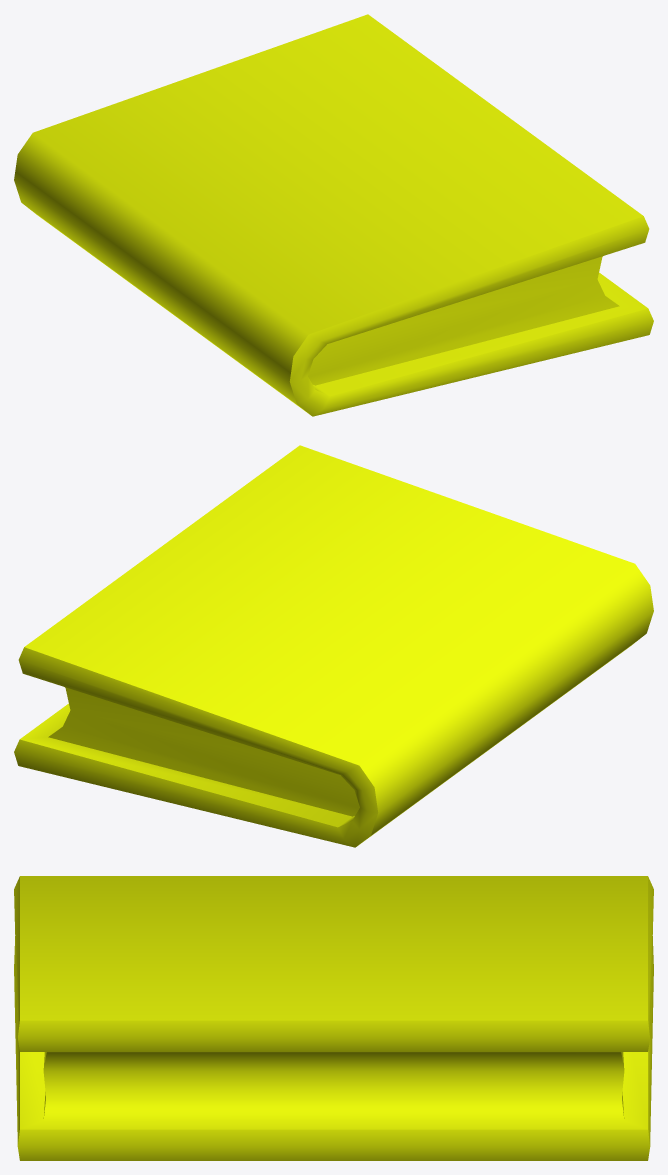
The model's file is Book1.FBX.
3 renders of one model, top to bottom at view 1: azimuth 30°, elevation 25°; view 2: azimuth 150°, elevation 25°; view 3: azimuth 270°, elevation 25°, orthographic. The views are drawn at different scales.
Parts seen in each view (by area): view 1: Box017; view 2: Box017; view 3: Box017.
Part boxes in pixels (bbox=[...]): Box017: bbox=[14, 14, 653, 416]; Box017: bbox=[14, 445, 653, 847]; Box017: bbox=[14, 876, 653, 1160].
Size of the model in its own units: 0.3016 by 0.0954 by 0.4039.
